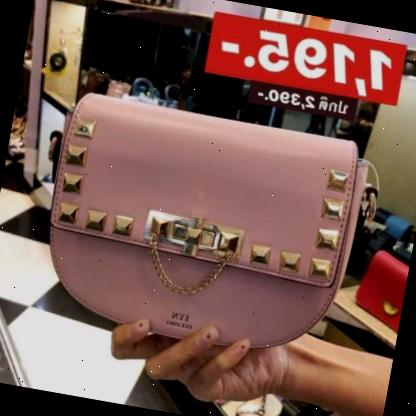bag: (22, 75, 390, 382)
